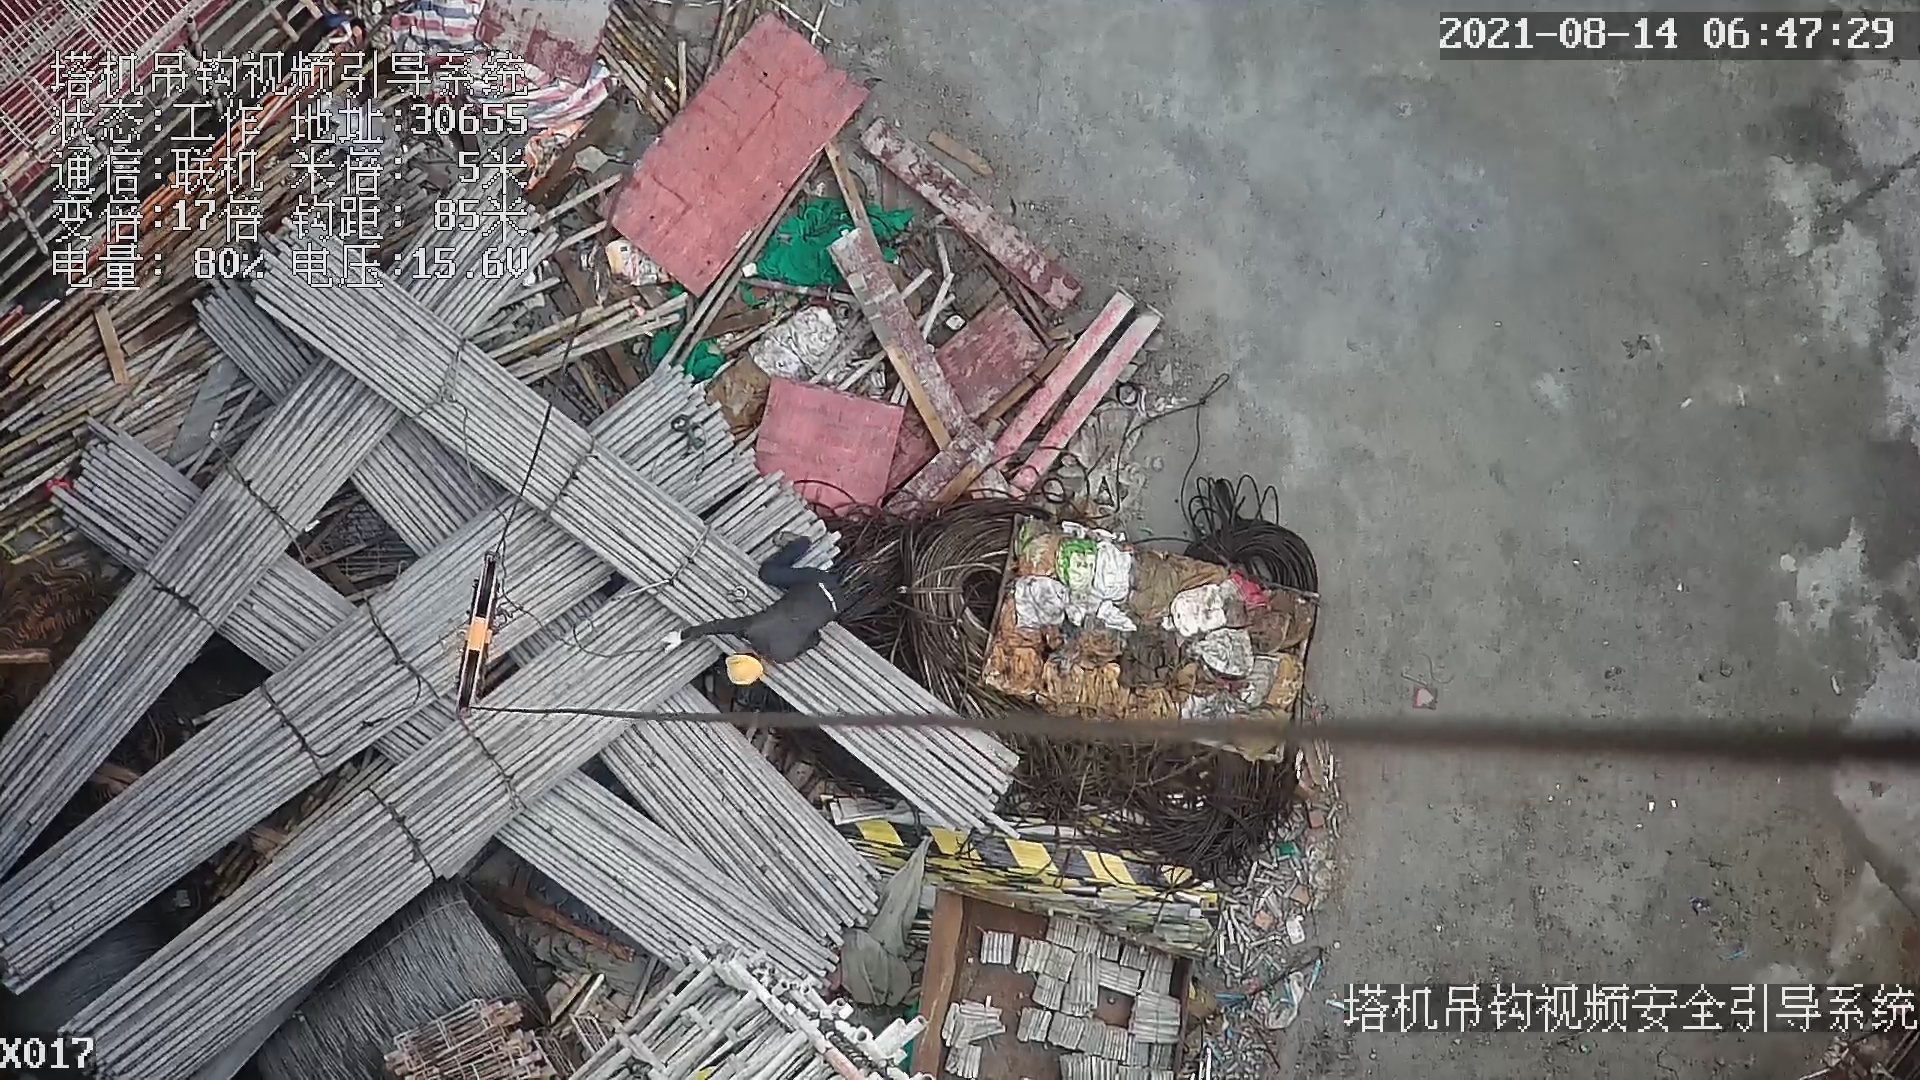board: (592, 11, 874, 302)
helmet: (723, 649, 767, 685)
hook: (438, 553, 510, 715)
person: (660, 530, 854, 692)
